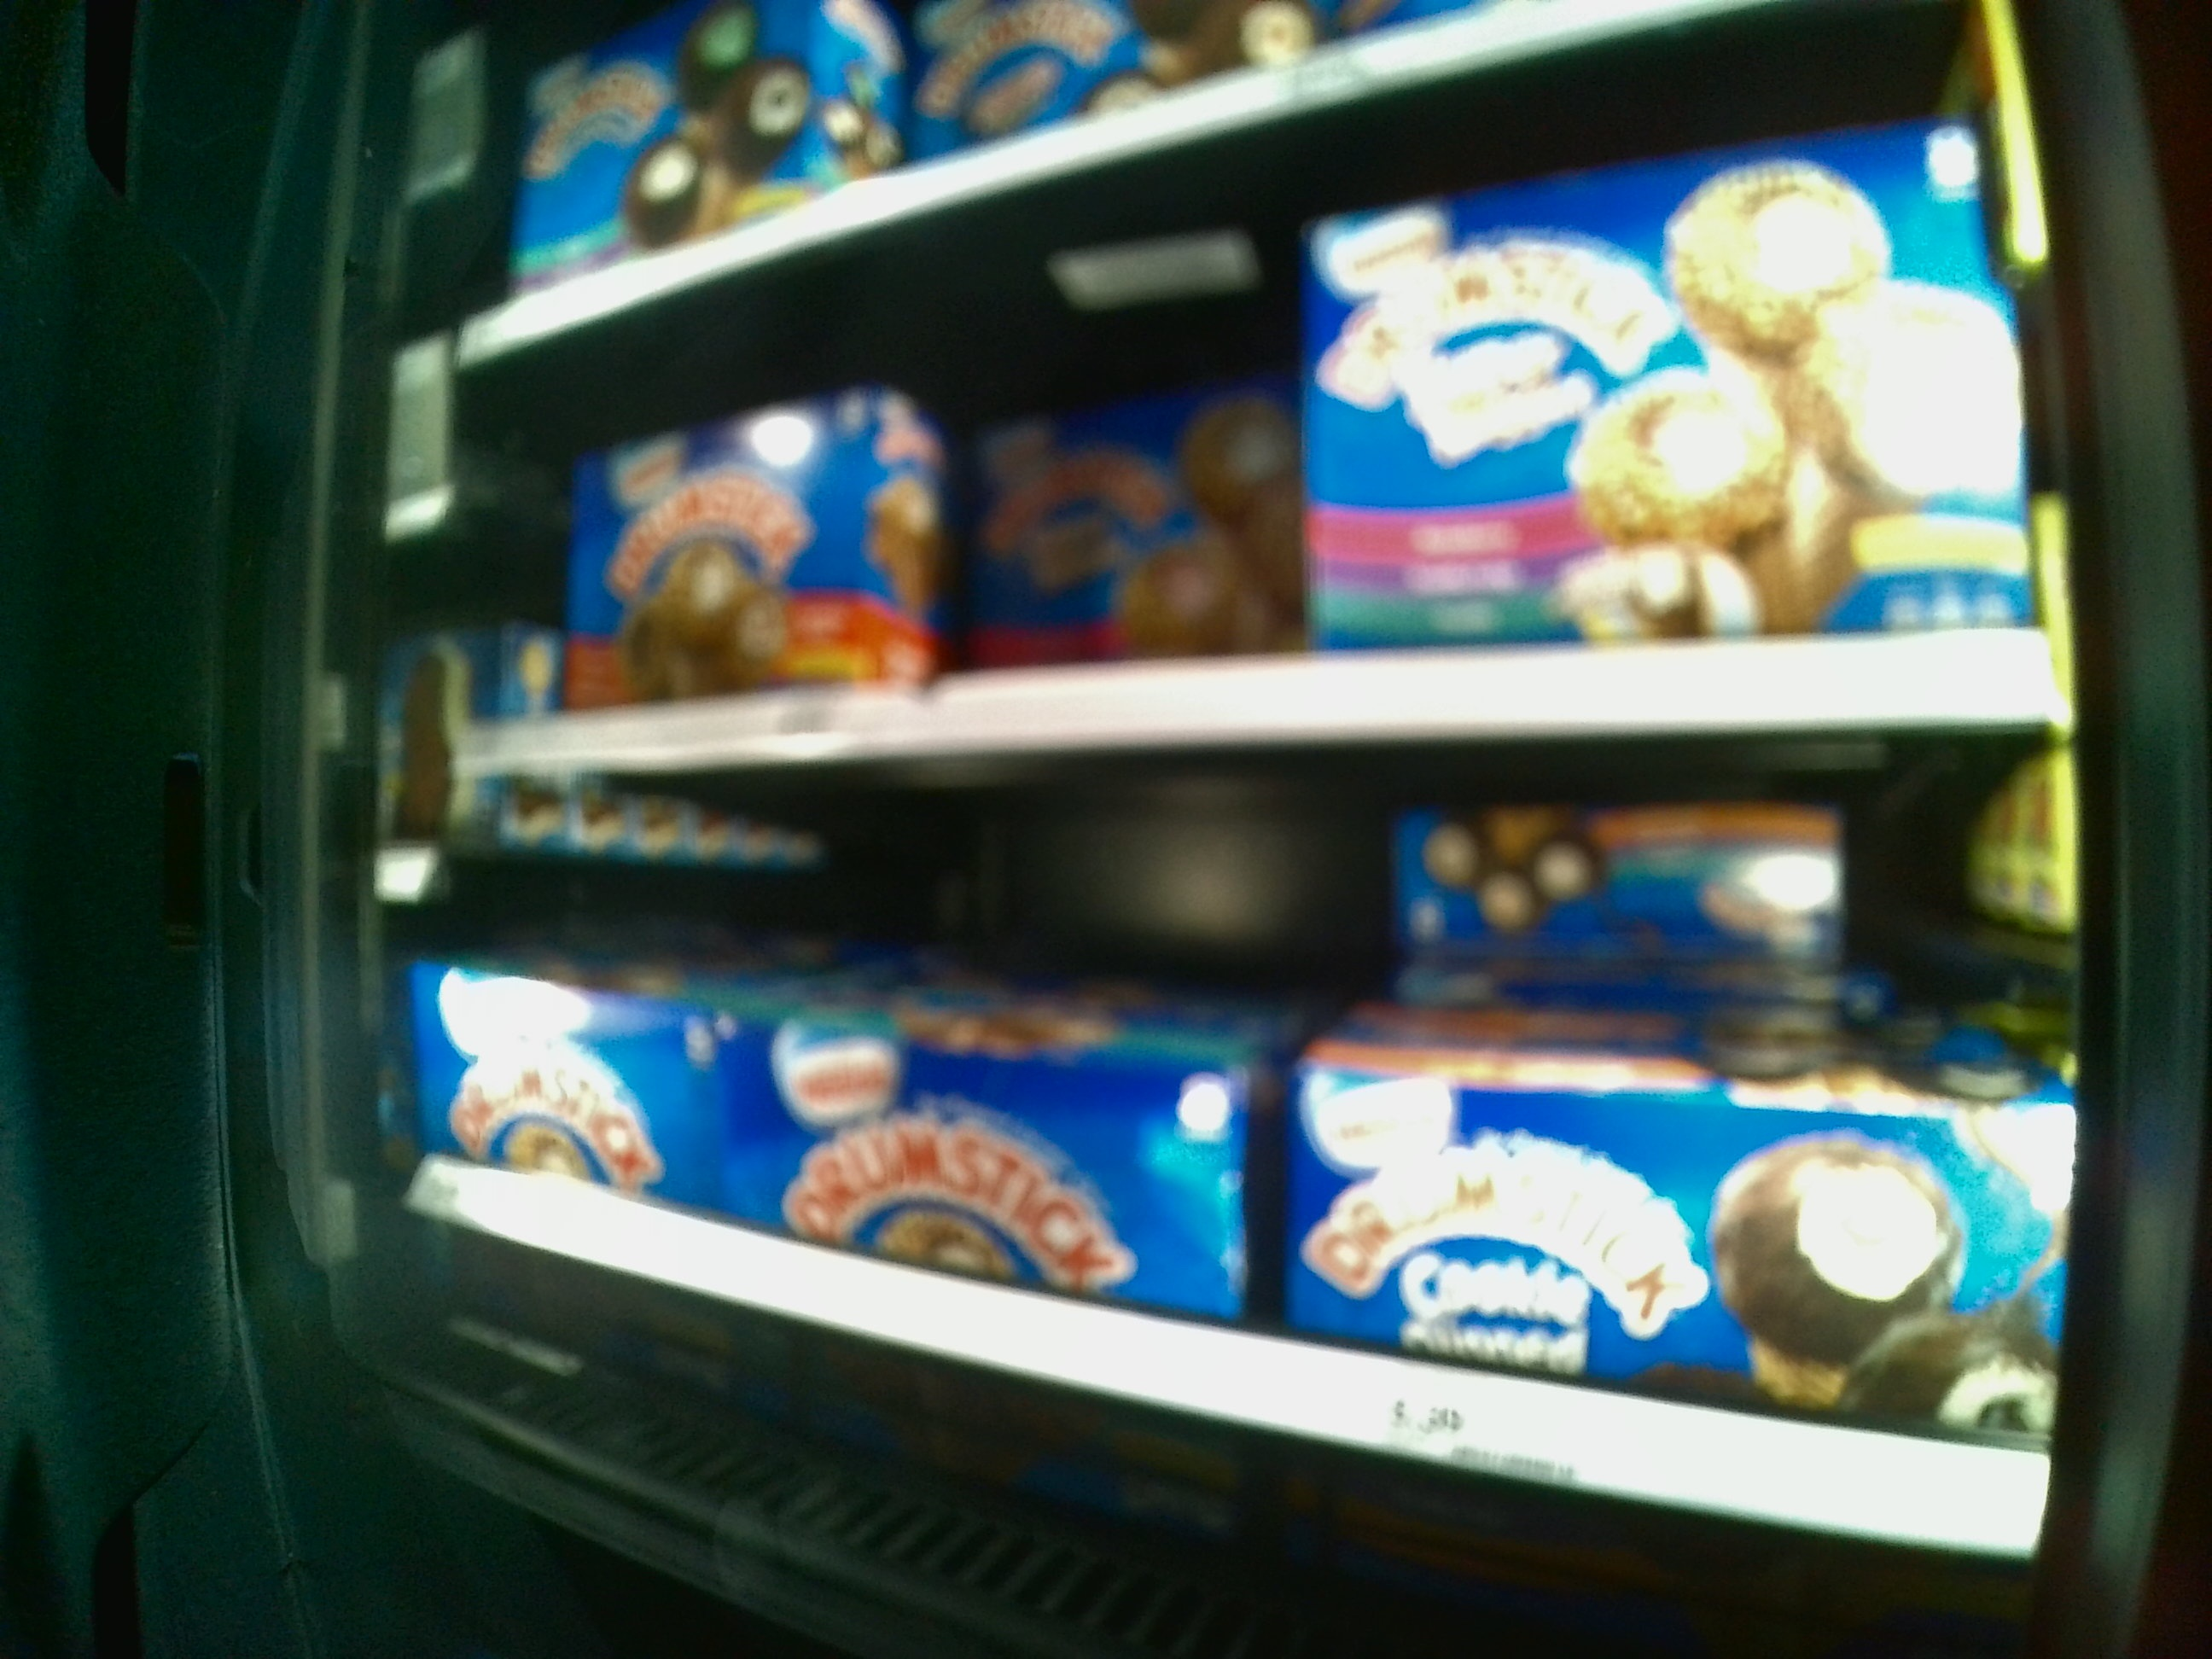shelf: (406, 779, 2114, 1649), (455, 98, 2088, 762)
